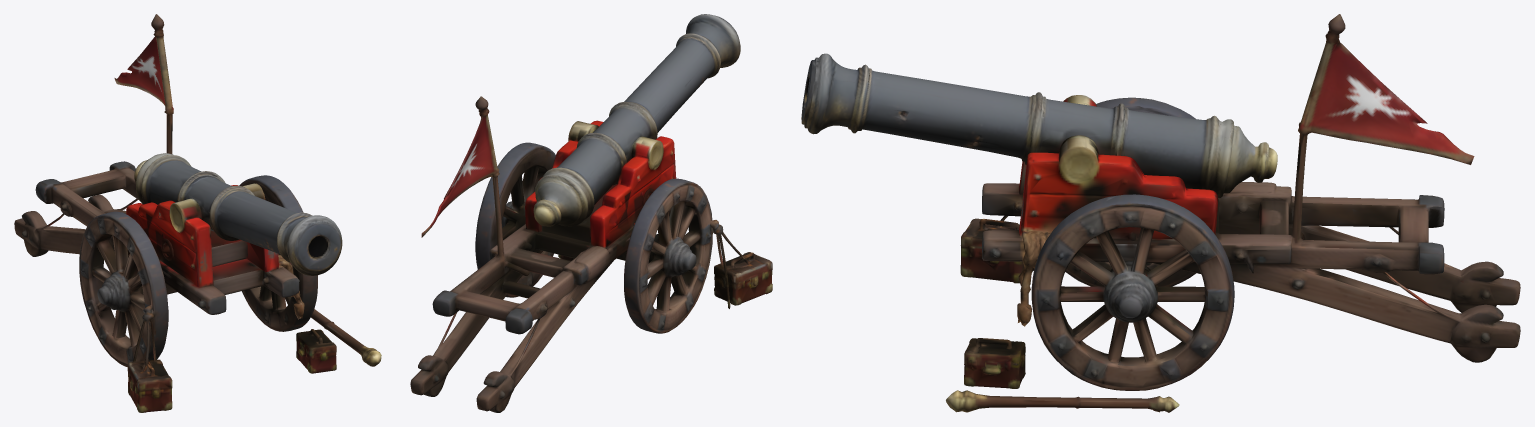
File: cannon-red-hy3-v1.glb
3 views of the same model, side by side, from view 1: azimuth 30°, elevation 25°; view 2: azimuth 150°, elevation 25°; view 3: azimuth 270°, elevation 25° (orthographic). The views are drawn at different scales.
Visible parts, largest first — view 1: node_0; view 2: node_0; view 3: node_0.
Part boxes in pixels (box(x1,y1,x2,y2)): node_0: box(14, 14, 381, 412); node_0: box(410, 14, 772, 412); node_0: box(801, 14, 1520, 412).
Bounding box in the file's own units: 1.25 × 1.33 × 2.48.
1 material, 1 textured.
